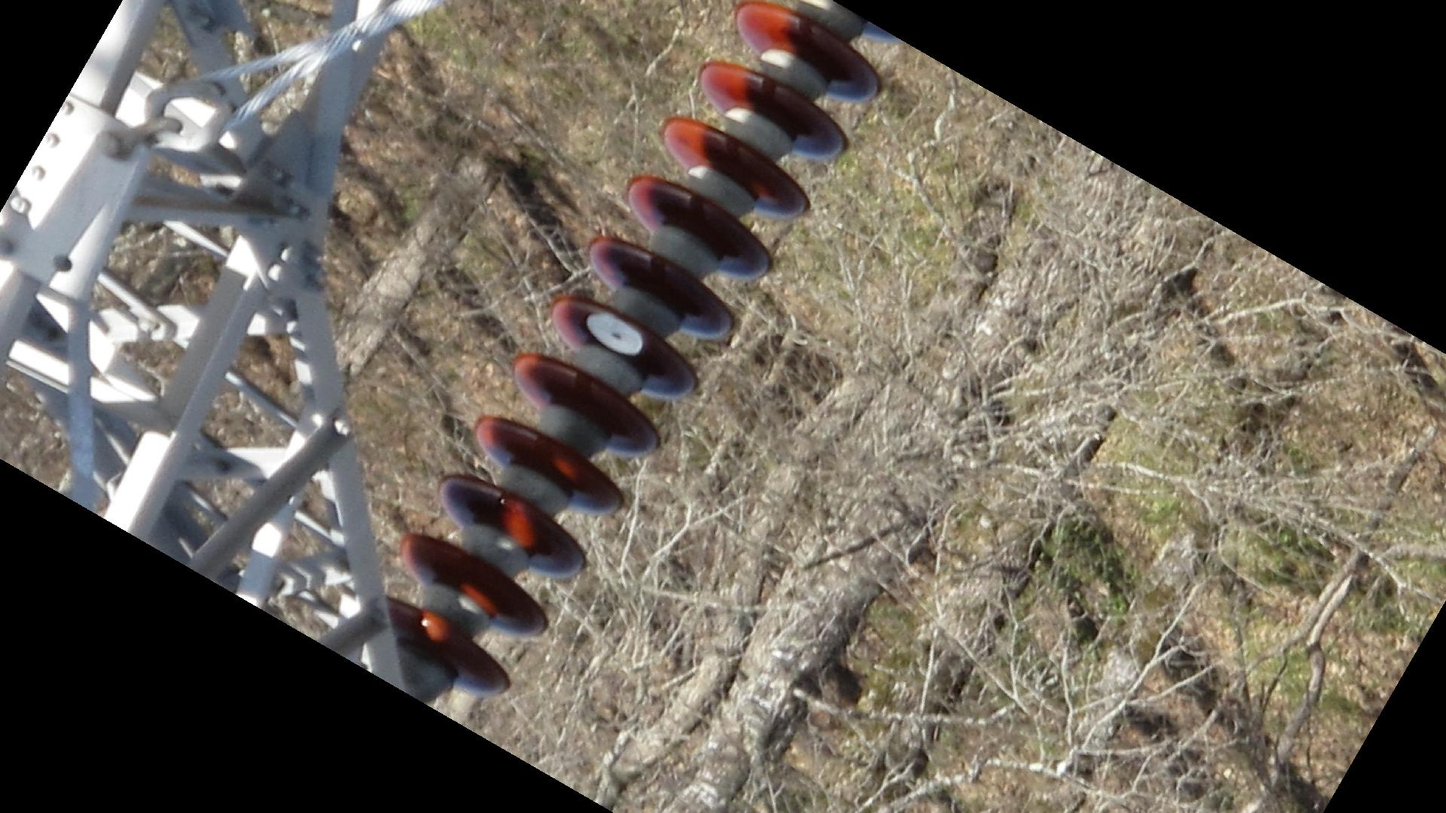insulator: (366, 1, 895, 705)
insulator_breakage: (576, 303, 653, 366)
